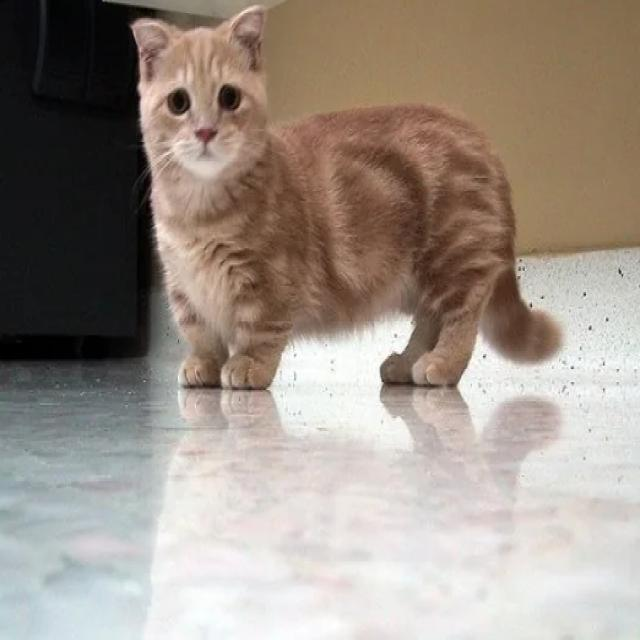Munchkin: (128, 2, 570, 394)
